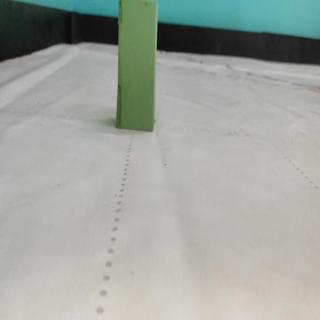greenbox: (117, 0, 156, 132)
